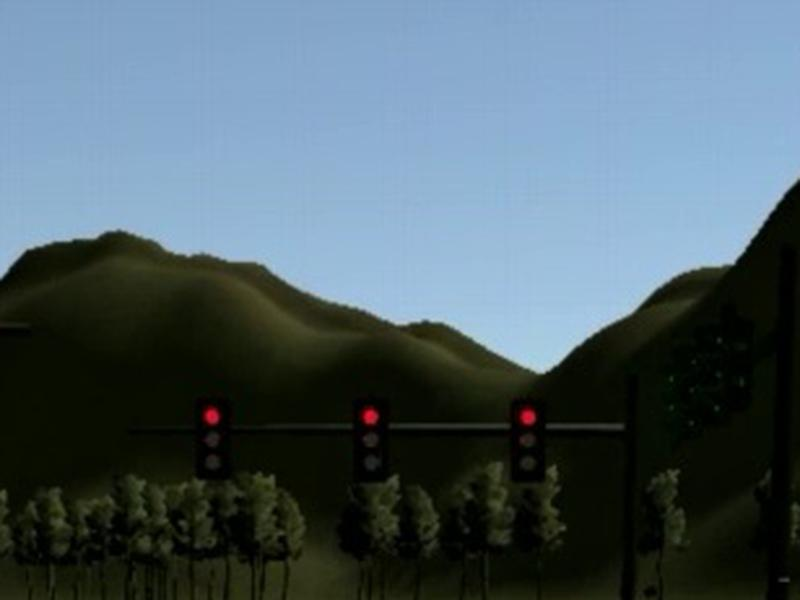Red: (509, 397, 549, 483), (194, 398, 232, 480), (354, 400, 388, 483)
